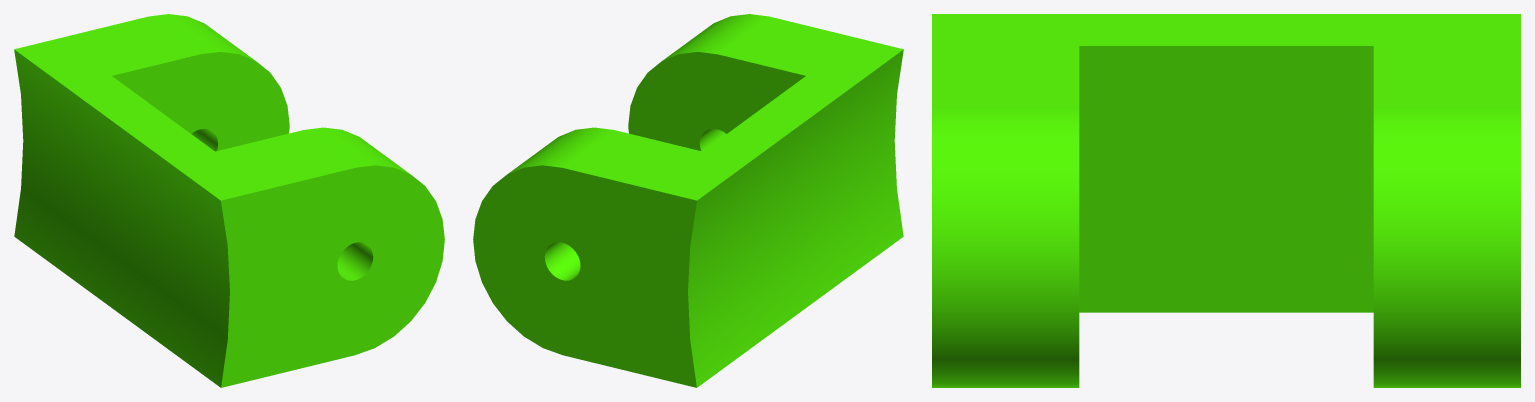
Rendered from AkaHinge.gltf.
3 views of the same model, side by side, from view 1: azimuth 30°, elevation 25°; view 2: azimuth 150°, elevation 25°; view 3: azimuth 270°, elevation 25° (orthographic). The views are drawn at different scales.
Parts seen in each view (by area): view 1: AkaHinge_Left1; view 2: AkaHinge_Left1; view 3: AkaHinge_Left1.
Part boxes in pixels (<box>): AkaHinge_Left1: <box>14,14,444,387</box>; AkaHinge_Left1: <box>473,14,903,387</box>; AkaHinge_Left1: <box>932,14,1520,387</box>.
Bounding box in the file's own units: 0.0626 × 0.05 × 0.1.
